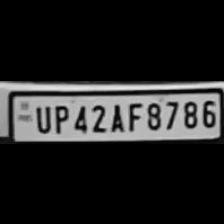2: (88, 100, 106, 132)
4: (70, 100, 89, 132)
6: (199, 95, 217, 127)
7: (161, 97, 179, 129)
8: (143, 98, 163, 130), (179, 96, 199, 128)
A: (106, 100, 124, 132)
F: (124, 99, 142, 131)
P: (50, 101, 68, 133)
U: (31, 100, 51, 132)
